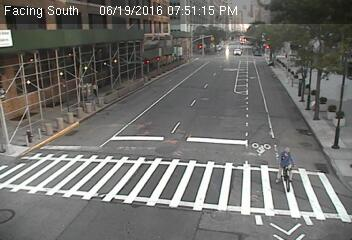neg: (267, 142, 306, 193)
pos: (88, 80, 101, 97)
